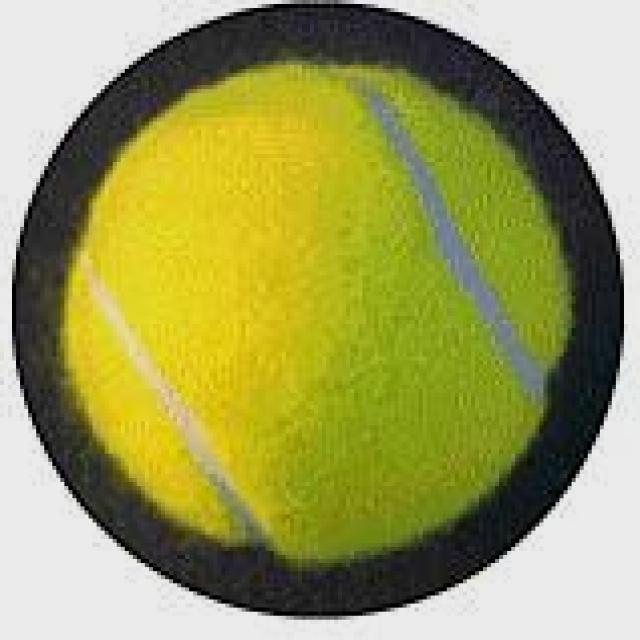Tennis Ball: (64, 57, 564, 563)
